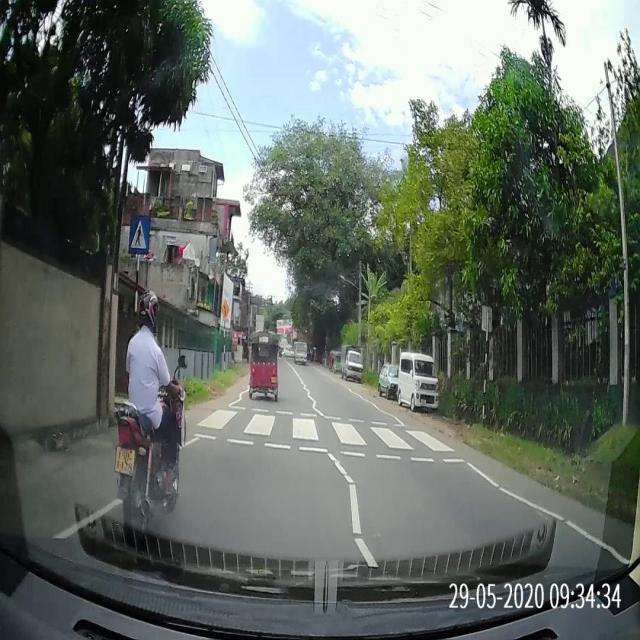Liniya 1: (464, 461, 633, 565), (326, 452, 383, 569), (46, 498, 123, 540)
Perehod: (194, 407, 457, 452)
